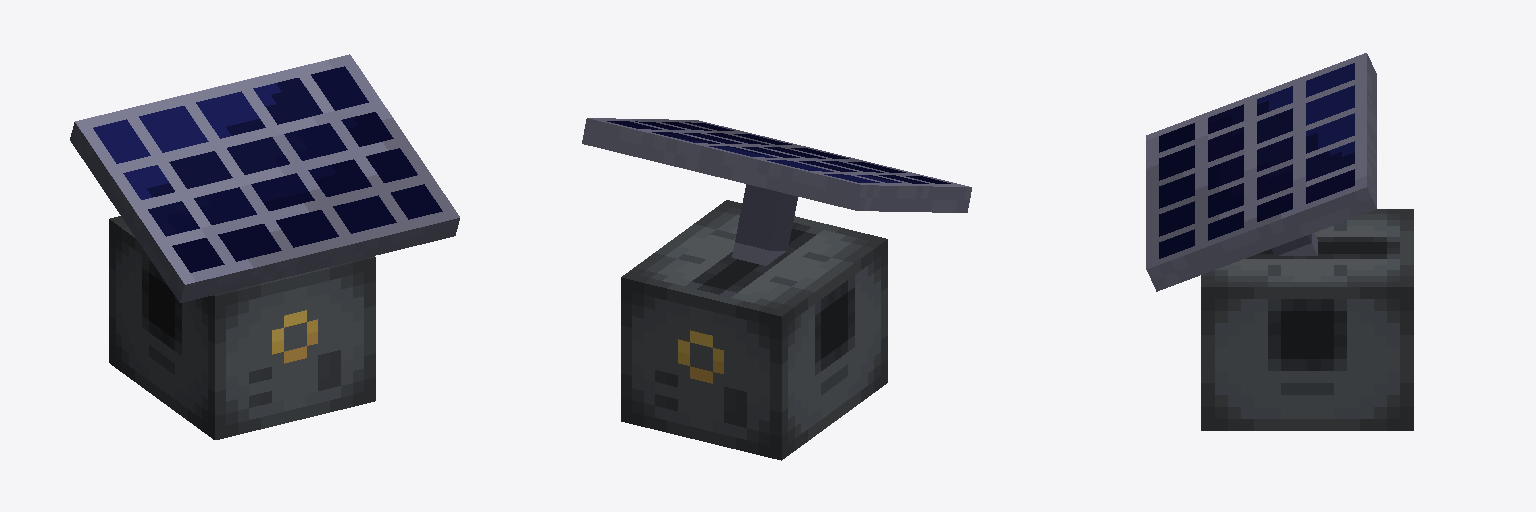
The picture shows the model from 3 angles: view 1: azimuth 30°, elevation 25°; view 2: azimuth 150°, elevation 25°; view 3: azimuth 270°, elevation 25°; orthographic projection.
Parts seen in each view (by area): view 1: panel, base; view 2: base, panel, stem; view 3: base, panel, stem.
Boxes of the visible parts, <box> form: panel: <box>70,54,459,302</box>; base: <box>109,216,375,439</box>; base: <box>621,200,887,460</box>; panel: <box>582,118,971,212</box>; stem: <box>732,184,797,265</box>; base: <box>1201,209,1413,430</box>; panel: <box>1146,53,1376,291</box>; stem: <box>1272,233,1317,255</box>.
Bounding box in the file's own units: 1.5 × 1.42 × 1.26.
2 materials, 2 textured.